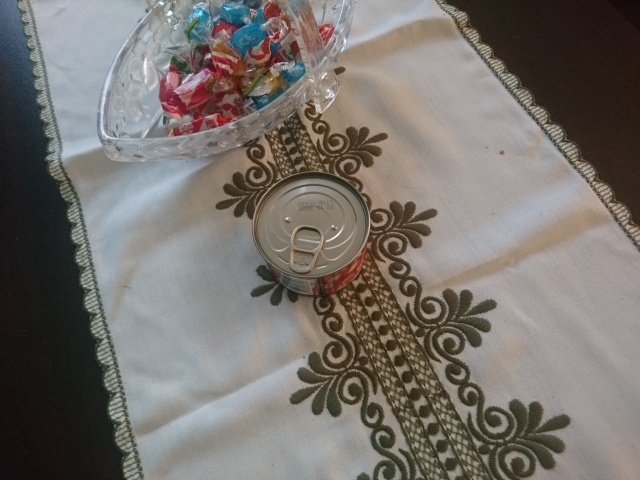Podravka Luncheon Meat 150g: (249, 168, 374, 300)
